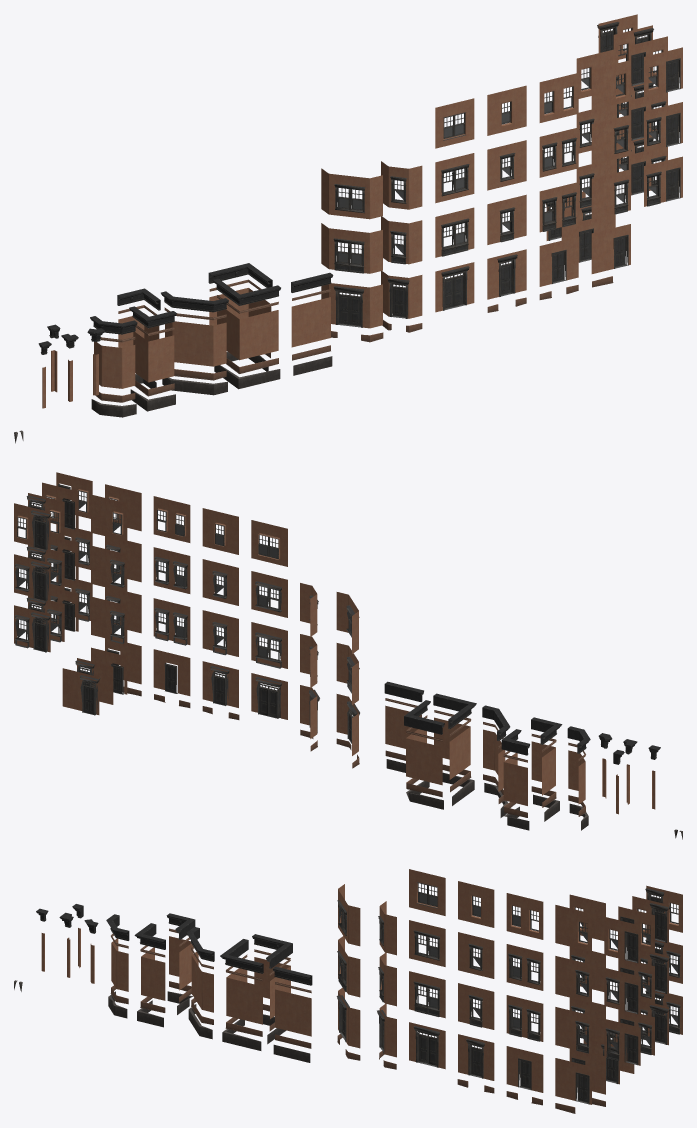
Rendered from modular_urban_apartments_facade.gltf.
3 views of the same model, one above another, from view 1: azimuth 30°, elevation 25°; view 2: azimuth 150°, elevation 25°; view 3: azimuth 330°, elevation 25° (orthographic). The views are drawn at different scales.
Visible parts, largest first — view 1: object 3, object 1, object 2, wall_window_centered_small_02, wall_window_centered_small_01; view 2: object 3, object 1, object 2, wall_window_centered_small_02, wall_window_centered_small_01; view 3: object 3, object 1, object 2, wall_window_centered_small_02, wall_window_centered_small_01.
Boxes of the visible parts, bbox=[...] form: object 3: bbox=[38, 14, 682, 408]; object 1: bbox=[333, 22, 680, 327]; object 2: bbox=[14, 112, 613, 443]; wall_window_centered_small_02: bbox=[487, 140, 526, 190]; wall_window_centered_small_01: bbox=[487, 194, 526, 244]; object 3: bbox=[14, 472, 660, 814]; object 1: bbox=[15, 484, 359, 743]; object 2: bbox=[122, 687, 682, 839]; wall_window_centered_small_02: bbox=[202, 559, 238, 605]; wall_window_centered_small_01: bbox=[202, 610, 238, 656]; object 3: bbox=[36, 869, 682, 1104]; object 1: bbox=[336, 883, 680, 1104]; object 2: bbox=[14, 882, 605, 1113]; wall_window_centered_small_02: bbox=[458, 932, 494, 978]; wall_window_centered_small_01: bbox=[458, 983, 494, 1029].
Size of the model in its own units: 51.3 by 17 by 6.66.
Materials: 5 (5 with a texture image).
